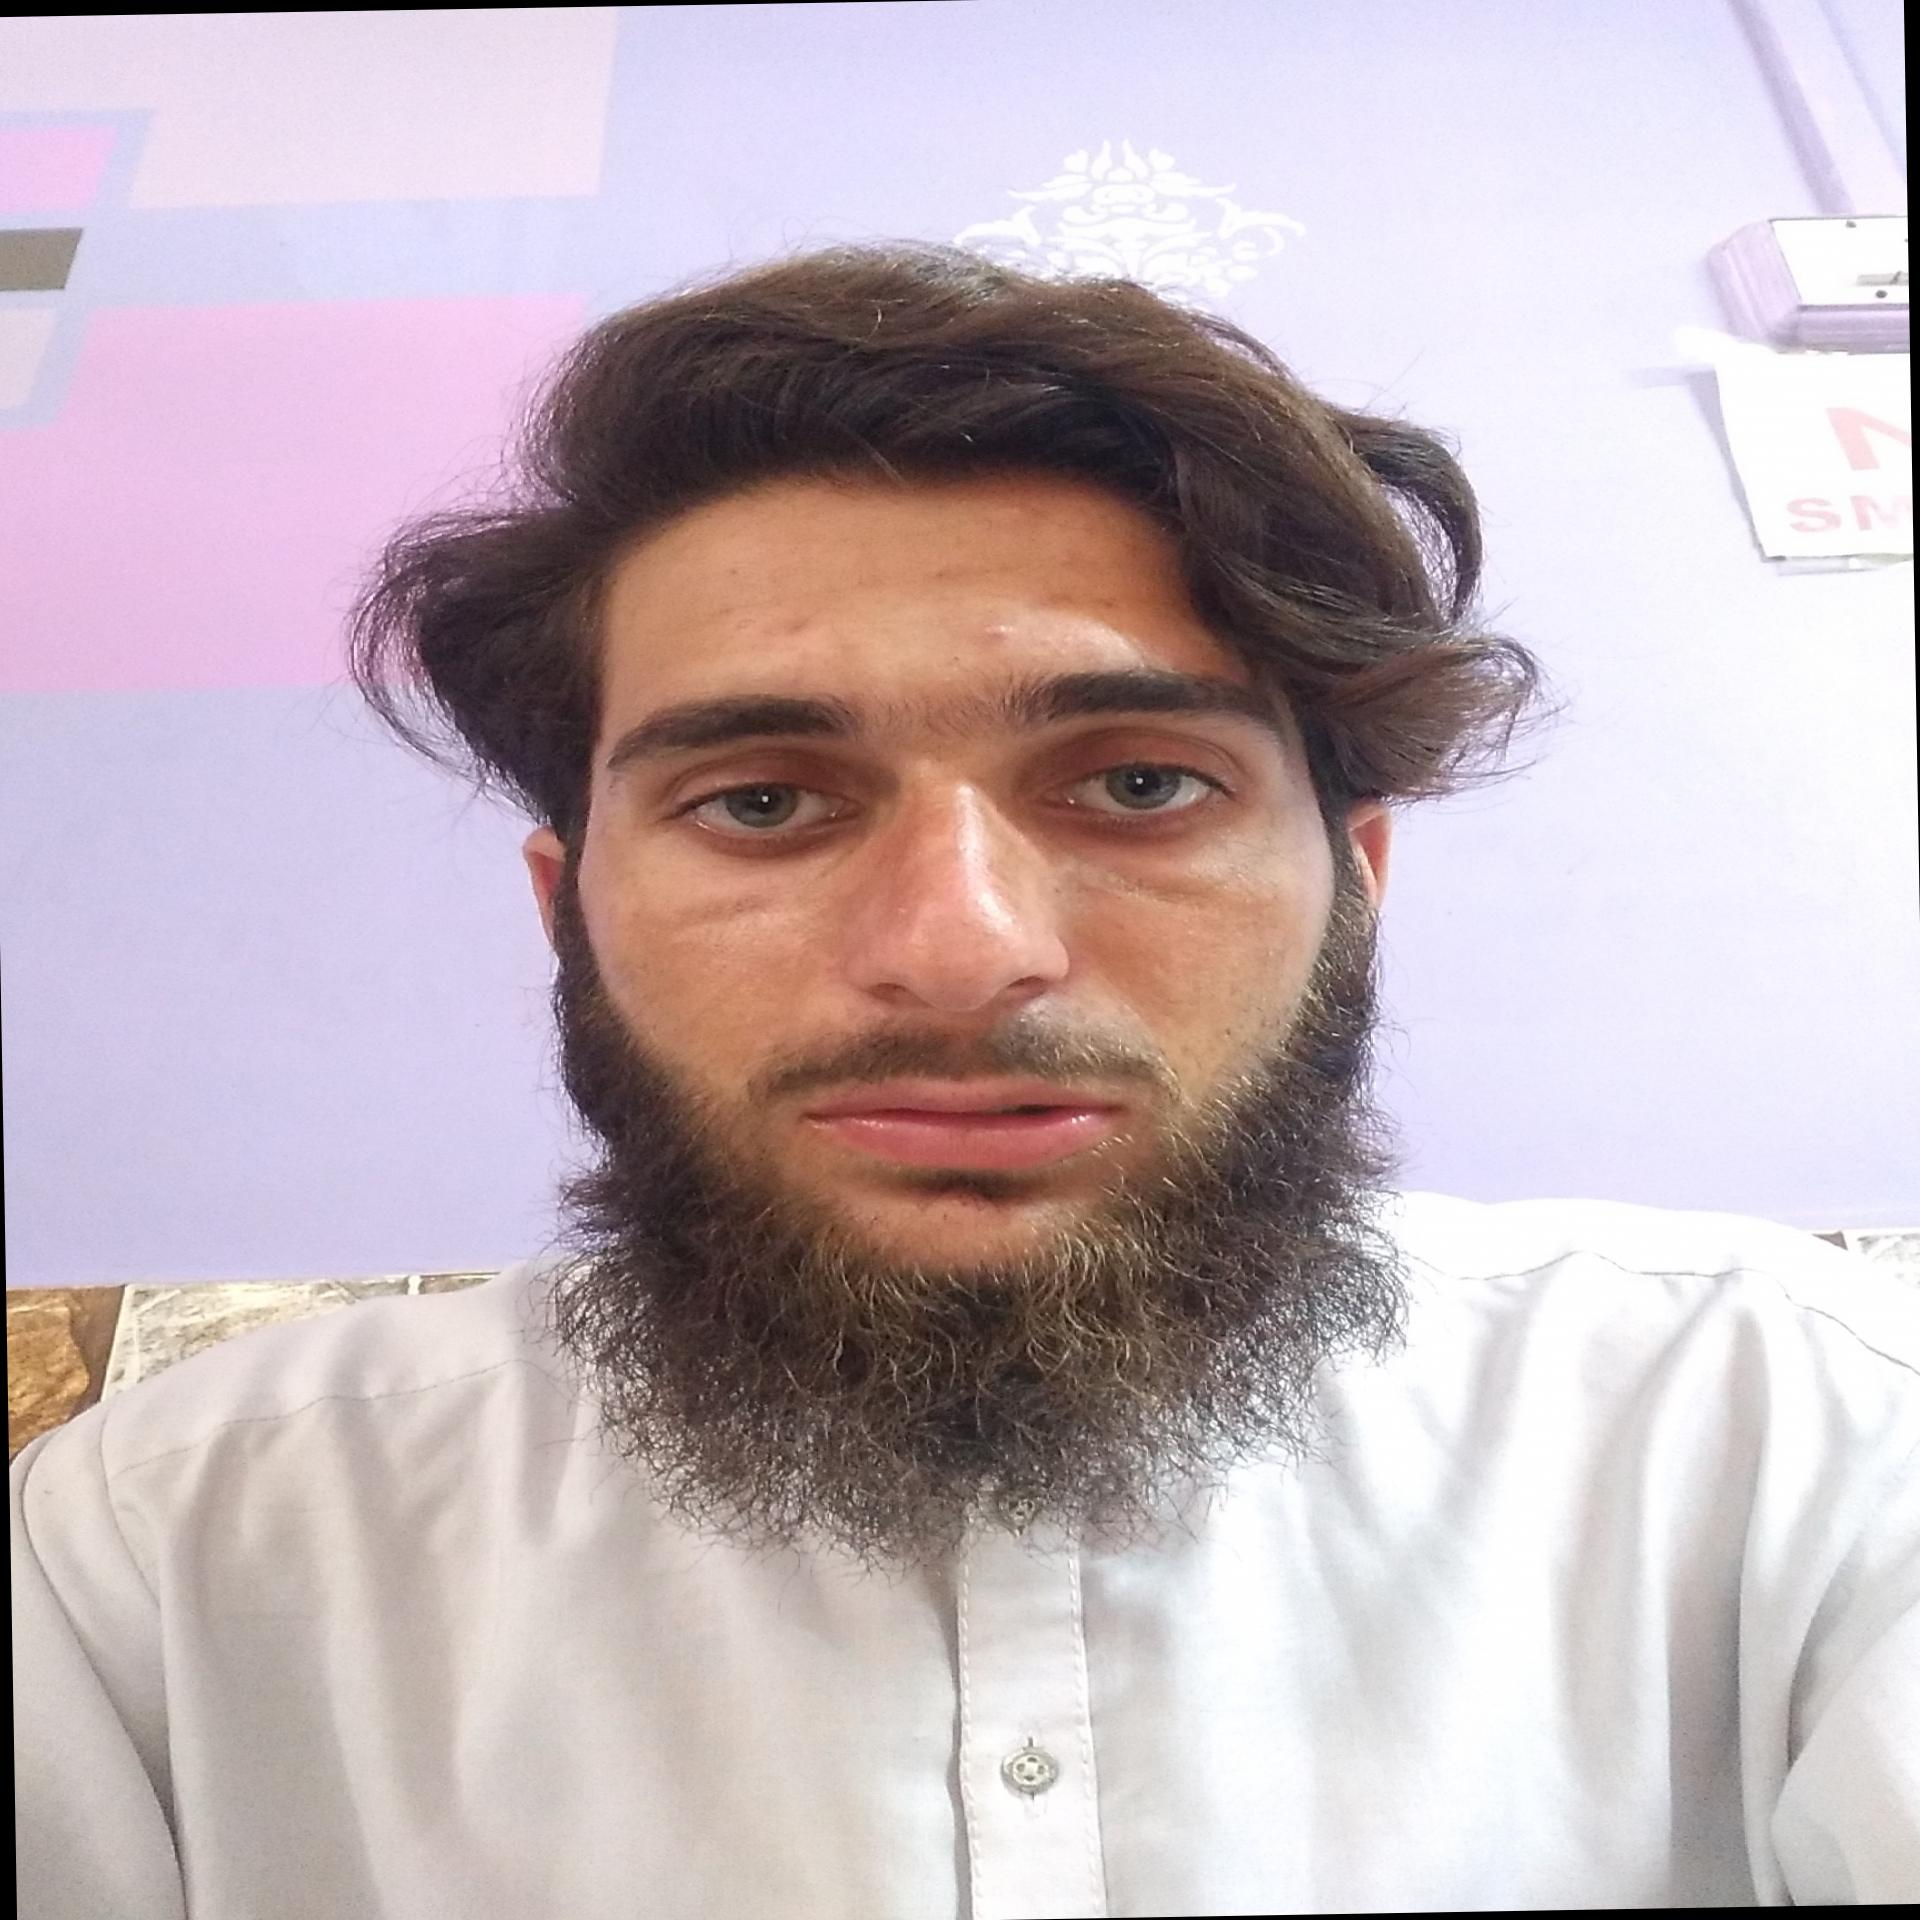Acne: (784, 610, 821, 642), (1037, 587, 1080, 608), (979, 617, 1015, 642), (1053, 547, 1087, 570), (728, 612, 761, 633), (1088, 594, 1118, 614)
Dark Circles: (1018, 796, 1248, 856), (665, 811, 869, 863)
Englarged Pores: (693, 914, 786, 992)
Wrinkles: (724, 561, 1041, 610), (1085, 863, 1218, 914), (1094, 960, 1166, 1043), (659, 888, 786, 930)
